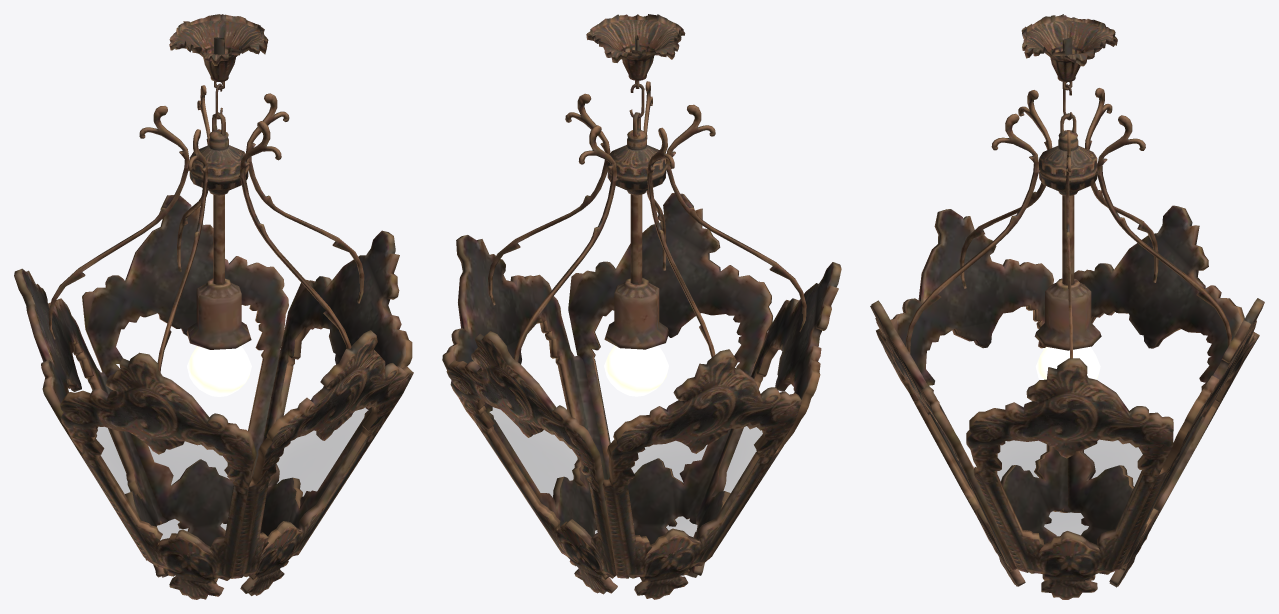
Rendered from lantern_chandelier_01.glb.
3 views of the same model, side by side, from view 1: azimuth 30°, elevation 25°; view 2: azimuth 150°, elevation 25°; view 3: azimuth 270°, elevation 25° (orthographic).
Visible parts, largest first — view 1: lantern_chandelier_01; view 2: lantern_chandelier_01; view 3: lantern_chandelier_01.
Part boxes in pixels (x1,y1,x2,y2): lantern_chandelier_01: [14, 14, 413, 599]; lantern_chandelier_01: [442, 14, 841, 599]; lantern_chandelier_01: [870, 14, 1264, 599].
Size of the model in its own units: 0.5792 by 0.8776 by 0.5746.
3 materials, 2 textured.
